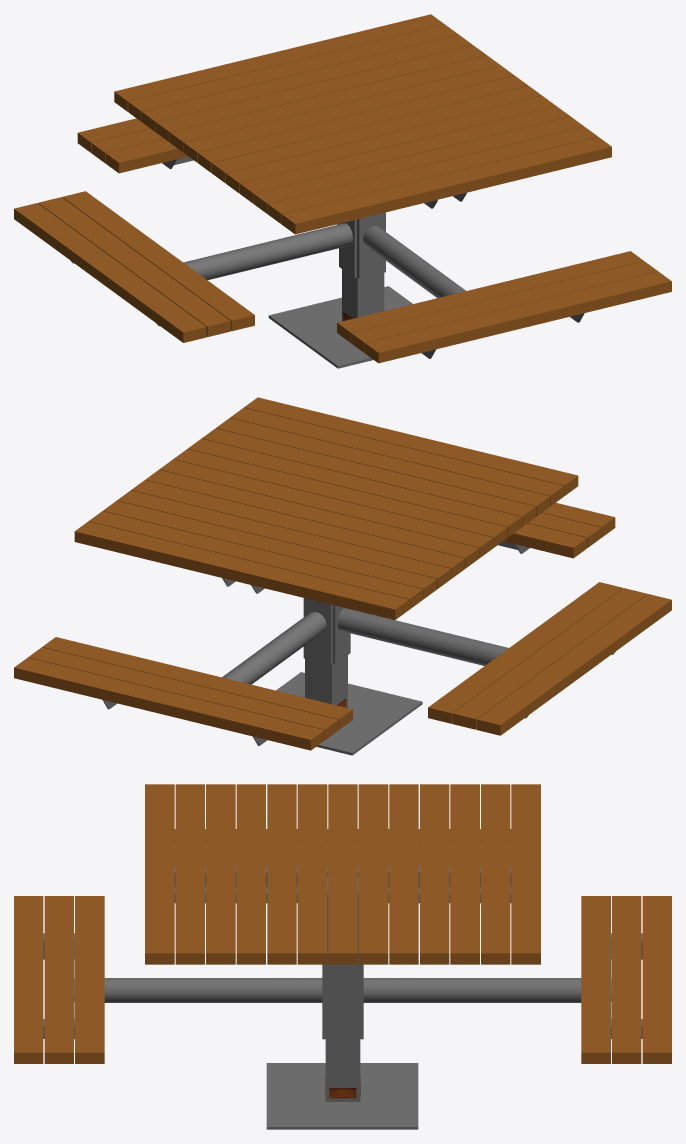
3 renders of one model, top to bottom at view 1: azimuth 30°, elevation 25°; view 2: azimuth 150°, elevation 25°; view 3: azimuth 270°, elevation 25°, orthographic. The views are drawn at different scales.
Visible parts, largest first — view 1: mesh30_mesh30-geometry, mesh23_mesh23-geometry, mesh19_mesh19-geometry, mesh15_mesh15-geometry, mesh11_mesh11-geometry, mesh5_mesh5-geometry, mesh18_mesh18-geometry, mesh32_mesh32-geometry; view 2: mesh30_mesh30-geometry, mesh23_mesh23-geometry, mesh19_mesh19-geometry, mesh15_mesh15-geometry, mesh7_mesh7-geometry, mesh5_mesh5-geometry, mesh17_mesh17-geometry, mesh32_mesh32-geometry; view 3: mesh30_mesh30-geometry, mesh23_mesh23-geometry, mesh15_mesh15-geometry, mesh7_mesh7-geometry, mesh11_mesh11-geometry, mesh5_mesh5-geometry.
Boxes of the visible parts, box(x1,y1,x2,y2) form: mesh30_mesh30-geometry: box(114, 14, 611, 234); mesh23_mesh23-geometry: box(14, 118, 671, 363); mesh19_mesh19-geometry: box(183, 223, 352, 280); mesh15_mesh15-geometry: box(268, 286, 412, 368); mesh11_mesh11-geometry: box(363, 226, 465, 297); mesh5_mesh5-geometry: box(342, 219, 384, 321); mesh18_mesh18-geometry: box(357, 212, 385, 278); mesh32_mesh32-geometry: box(339, 219, 356, 277); mesh30_mesh30-geometry: box(74, 397, 578, 619); mesh23_mesh23-geometry: box(14, 503, 671, 750); mesh19_mesh19-geometry: box(337, 608, 508, 665); mesh15_mesh15-geometry: box(276, 672, 422, 755); mesh7_mesh7-geometry: box(222, 612, 326, 684); mesh5_mesh5-geometry: box(305, 605, 347, 707); mesh17_mesh17-geometry: box(303, 598, 331, 664); mesh32_mesh32-geometry: box(332, 605, 350, 664); mesh30_mesh30-geometry: box(145, 784, 540, 964); mesh23_mesh23-geometry: box(14, 829, 671, 1063); mesh15_mesh15-geometry: box(266, 1063, 418, 1129); mesh7_mesh7-geometry: box(363, 978, 611, 1002); mesh11_mesh11-geometry: box(74, 978, 322, 1002); mesh5_mesh5-geometry: box(325, 877, 360, 1101).
Bounding box in the file's own units: 0.6003 × 0.2867 × 0.7466.
